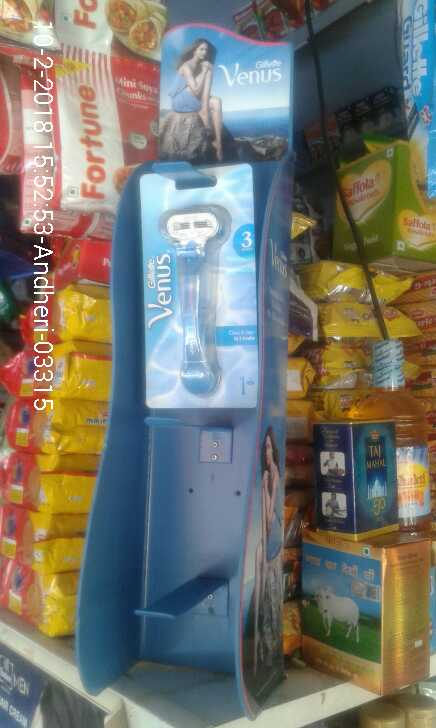venus: (128, 159, 266, 409)
